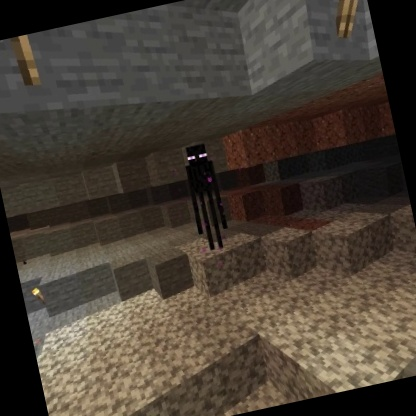enderman: (177, 139, 235, 255)
